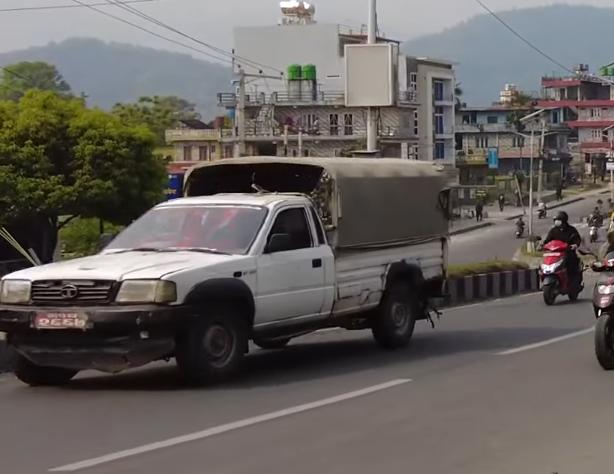bike: (533, 196, 548, 222)
scooter: (534, 210, 590, 312), (581, 236, 614, 378), (511, 215, 526, 243)
transport_vehicle: (6, 150, 467, 391)
